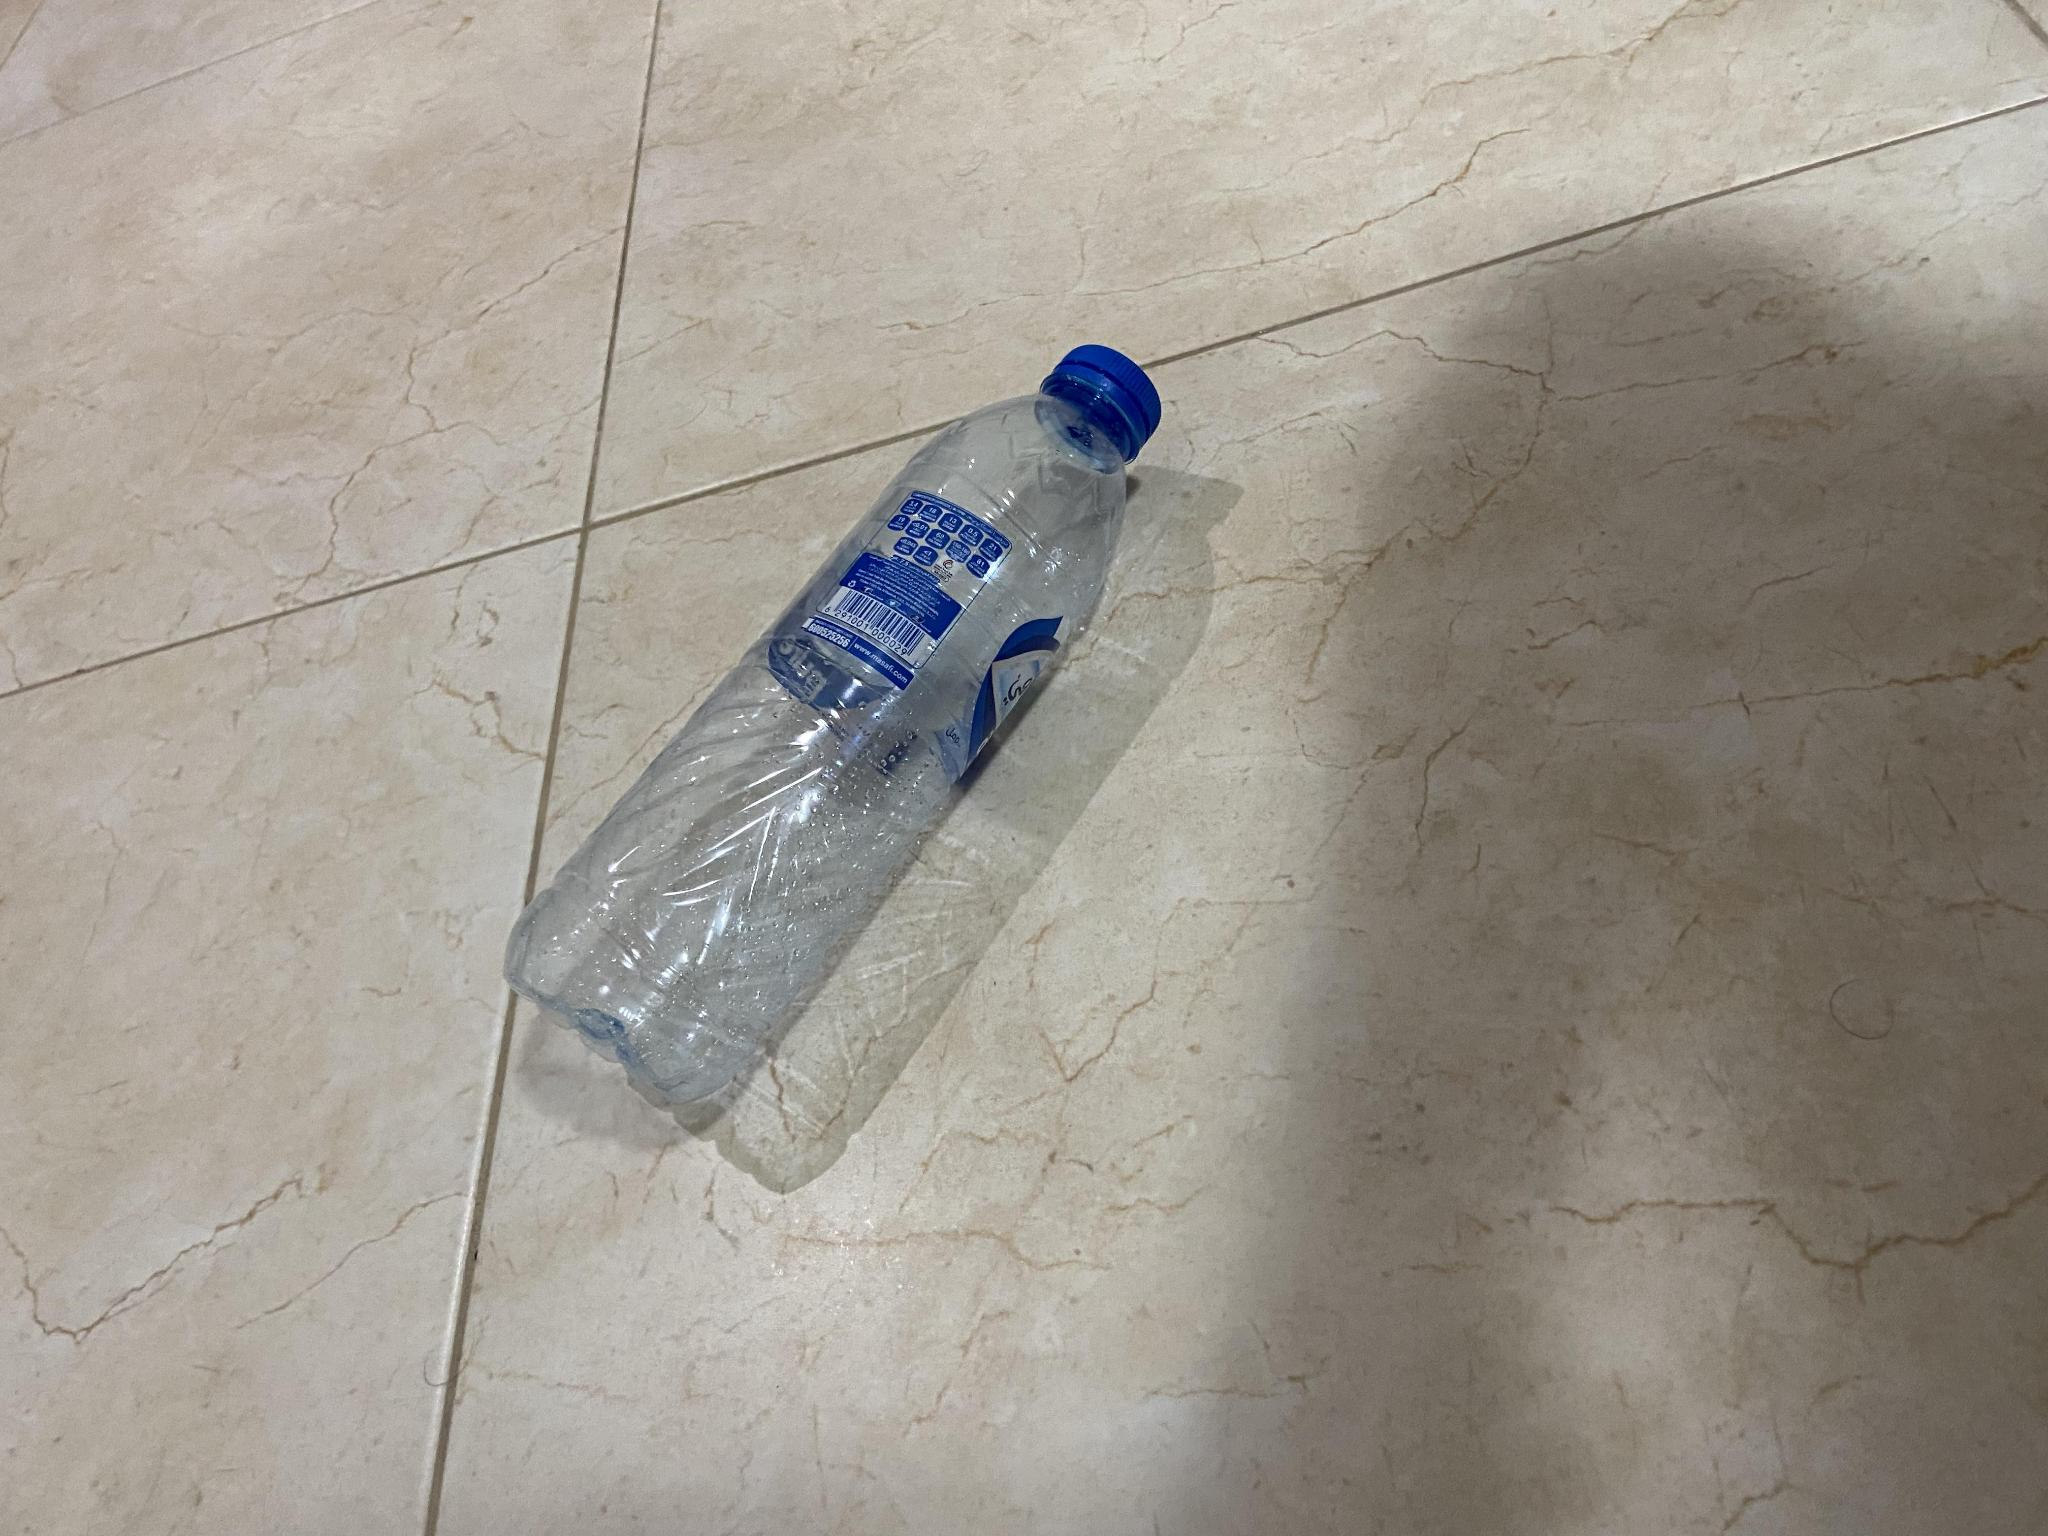bottle: (476, 329, 1190, 1138)
